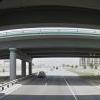Bridge: (3, 24, 92, 70)
